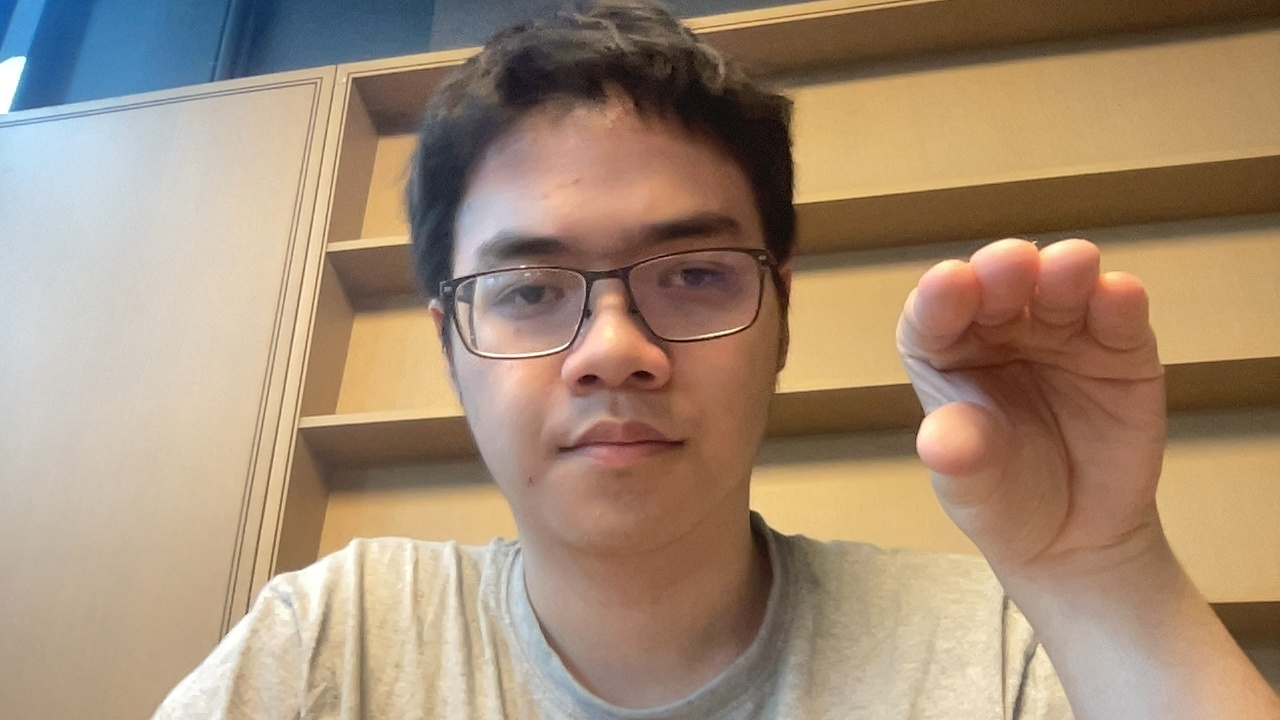no: (856, 246, 1224, 567)
